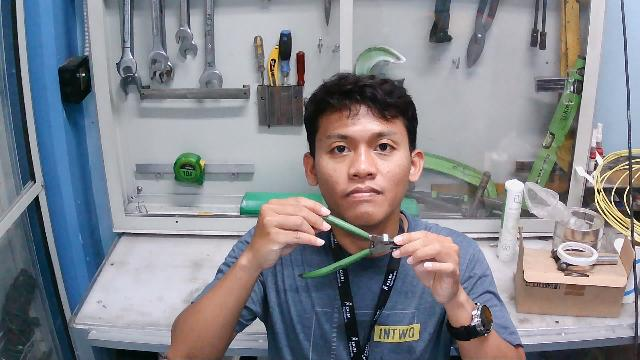tang_cucut_lancip_2: (297, 197, 410, 286)
